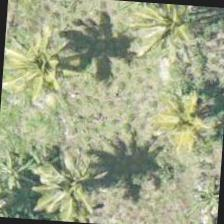Kelapa_Sawit: (18, 116, 114, 212)
